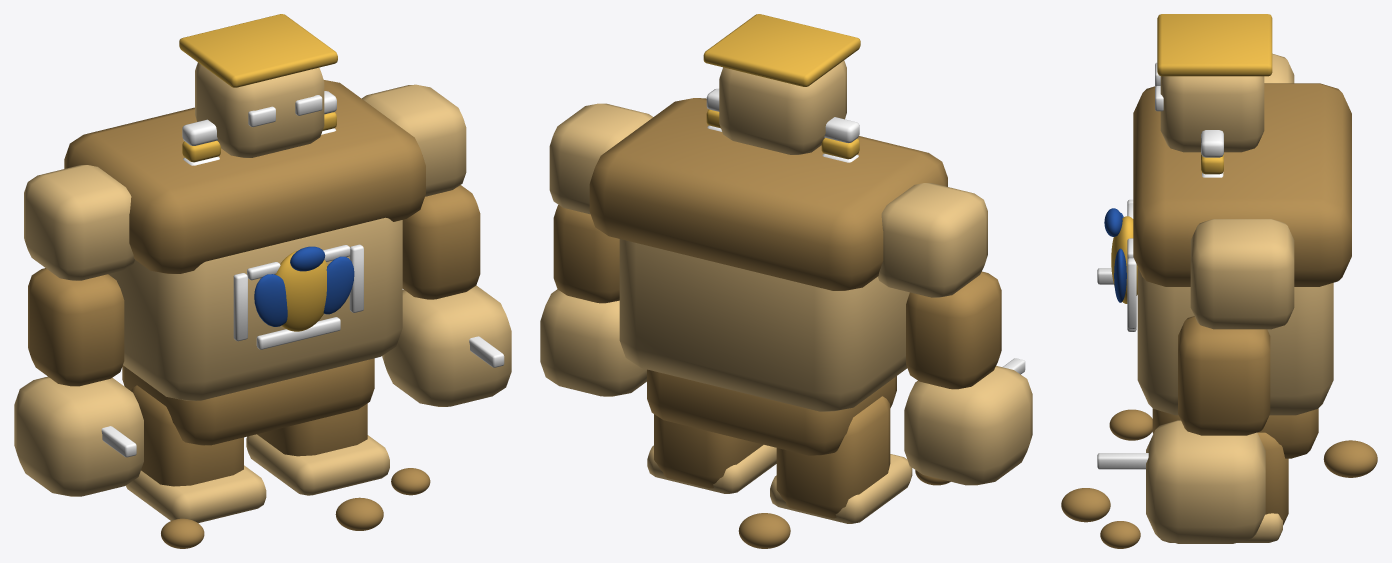
The model's file is golem_arena.glb.
The picture shows the model from 3 angles, left to right: view 1: azimuth 30°, elevation 25°; view 2: azimuth 150°, elevation 25°; view 3: azimuth 270°, elevation 25°; orthographic projection. The views are drawn at different scales.
Parts seen in each view (by area): view 1: Golem_arena_fijo; view 2: Golem_arena_fijo; view 3: Golem_arena_fijo.
Boxes of the visible parts, left/top/right/bottom form: Golem_arena_fijo: left=14, top=14, right=511, bottom=548; Golem_arena_fijo: left=540, top=14, right=1032, bottom=548; Golem_arena_fijo: left=1061, top=14, right=1377, bottom=548.
Bounding box in the file's own units: 2.4 × 2.21 × 1.37.
2 materials, 2 textured.
